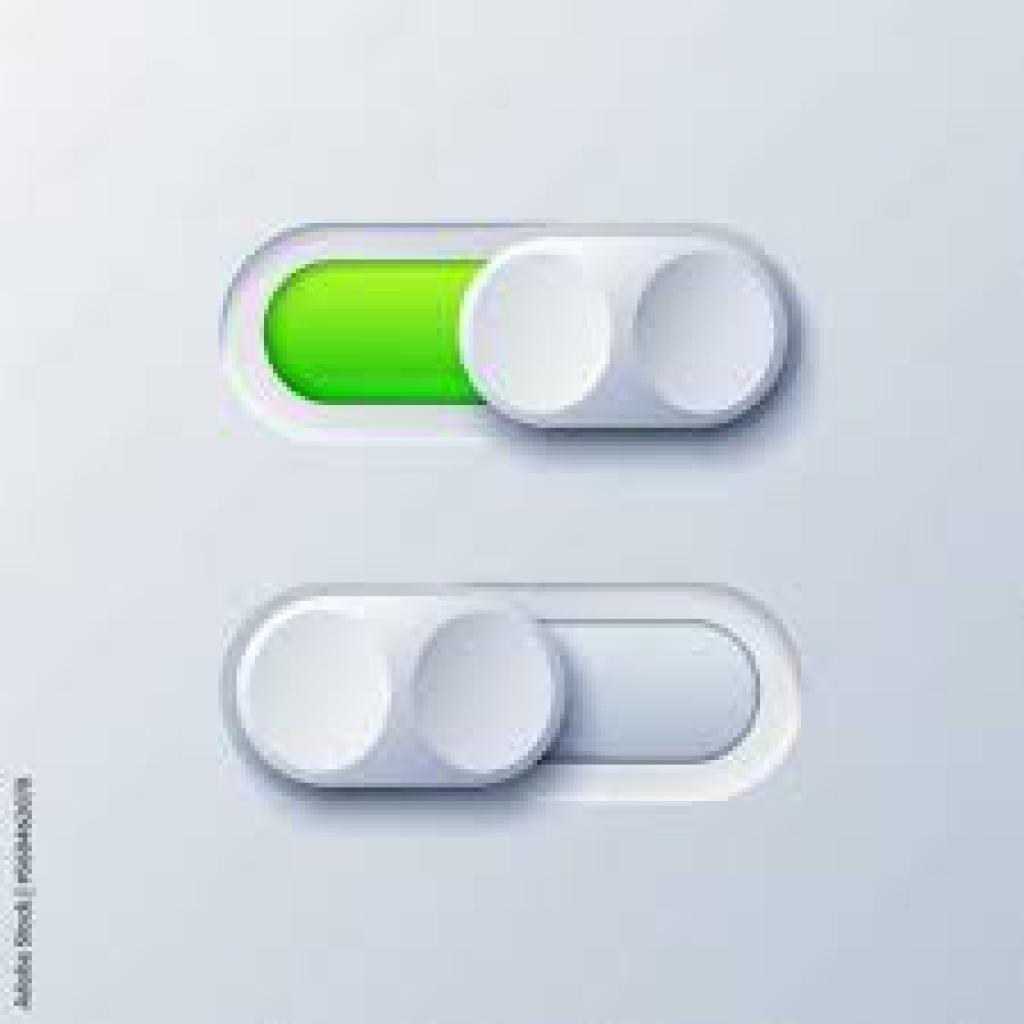switch: (209, 572, 817, 807), (218, 222, 815, 449)
